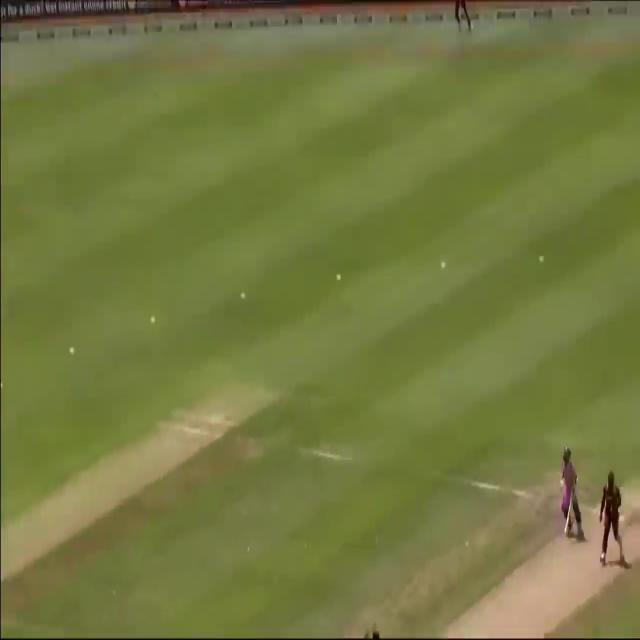Fielder: (551, 444, 590, 541), (597, 468, 626, 564), (449, 0, 472, 38)
